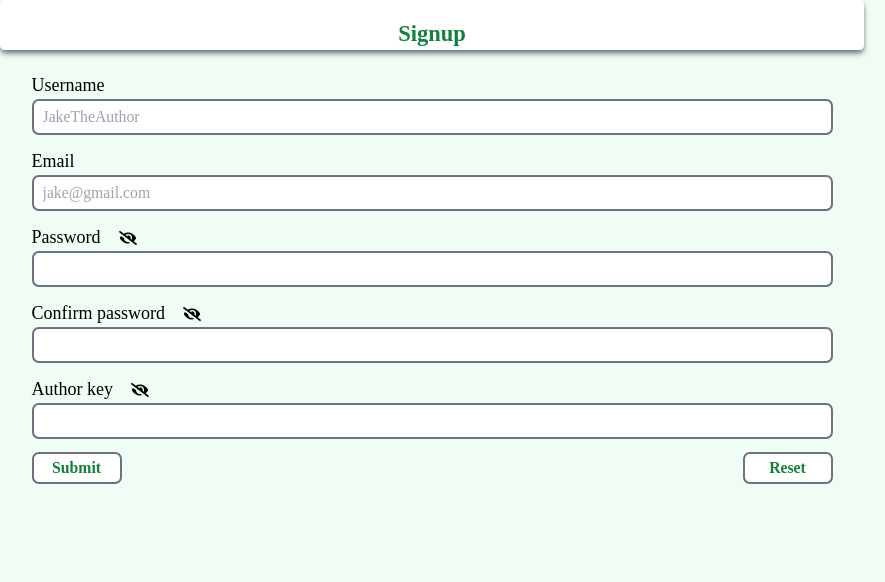
Test: signup form tests › form interactions › inputs are registered correctly
This screenshot has width=885, height=582.
Note: Every field is filled correctly
Type "a" into the field labelled "Username" at {"x": 432, "y": 117}, box [32,99,832,134]
Type "aaa@aaa" into the field labelled "Email" at {"x": 432, "y": 193}, box [32,175,832,210]
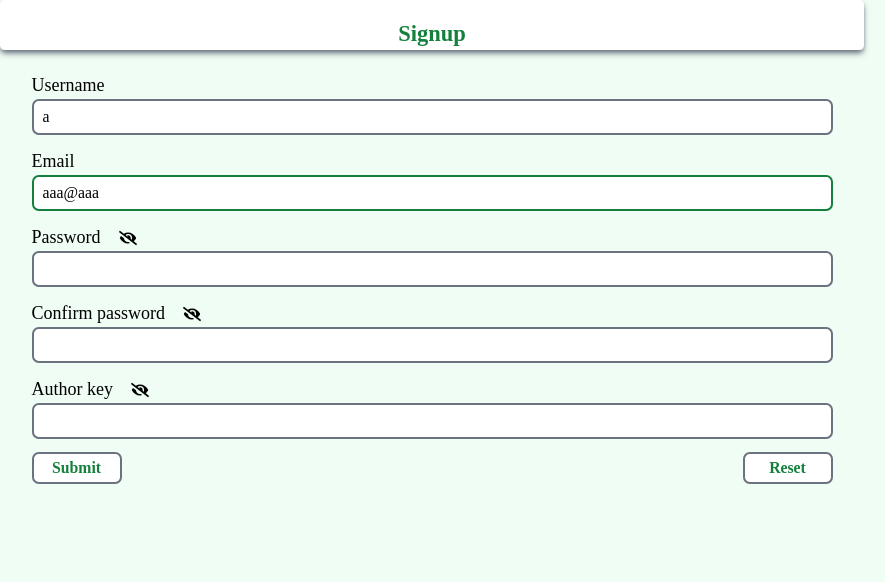
Type "aaaaa" into the password field labelled "Password" at {"x": 432, "y": 269}, box [32,251,832,286]
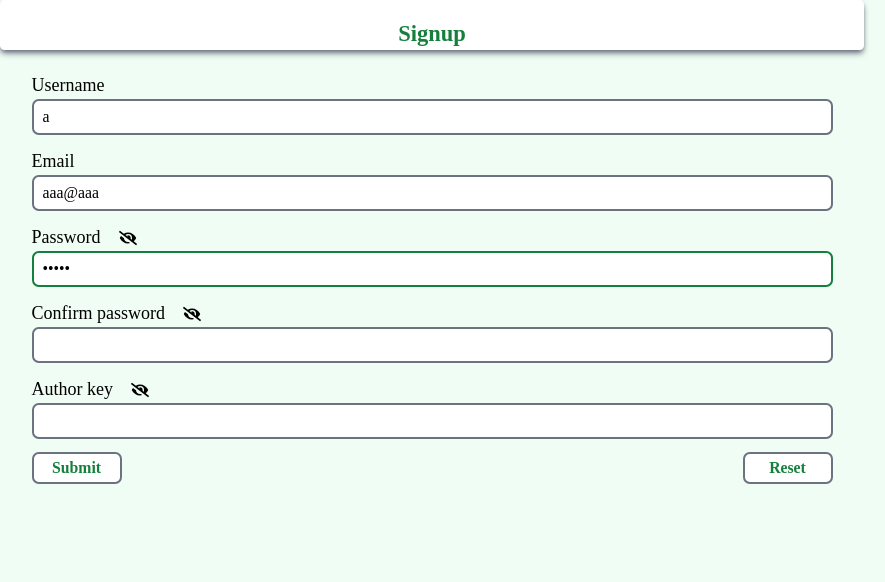
Type "aaaaa" into the password field labelled "Confirm password" at {"x": 432, "y": 345}, box [32,327,832,362]
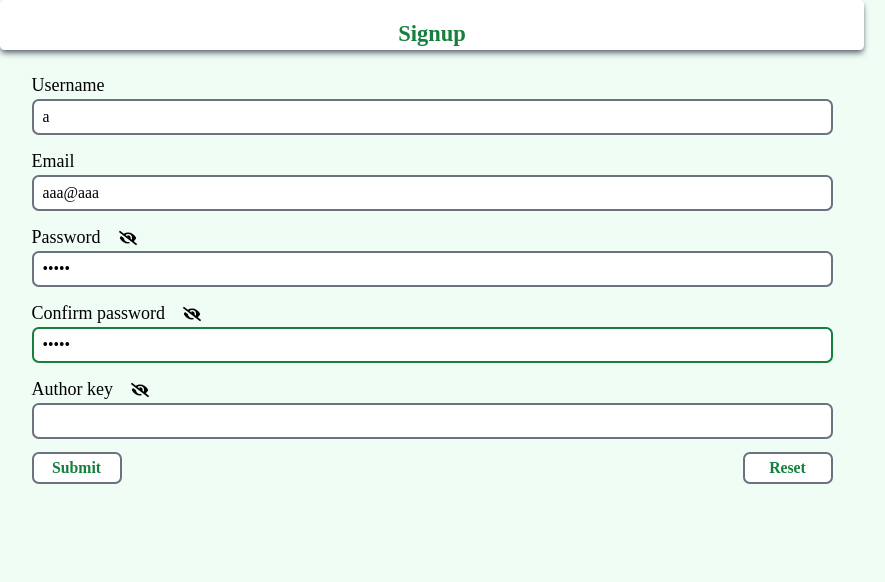
Type "aaaa" into the password field labelled "Author key" at {"x": 432, "y": 421}, box [32,403,832,438]
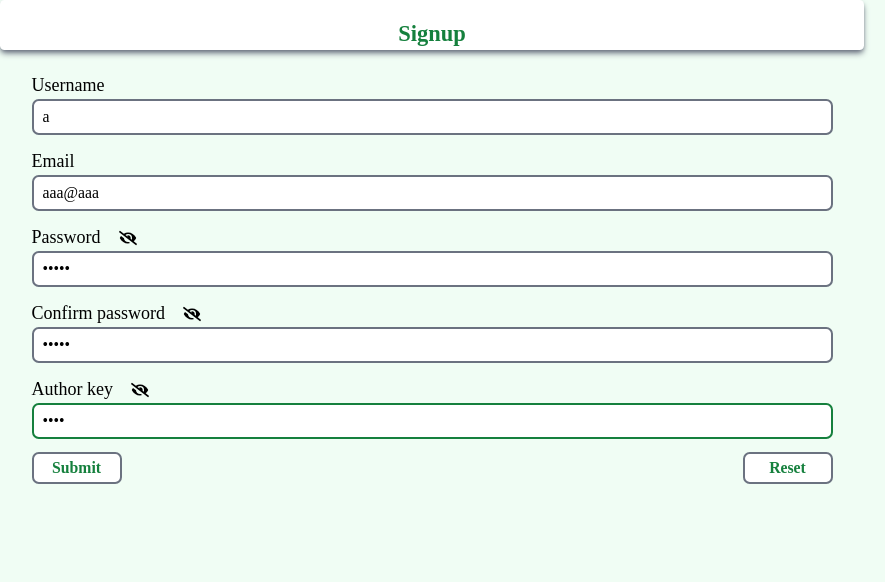
Note: Show error list on submit button press
Click the button "Submit" at {"x": 76, "y": 468}, box [32,452,122,484]
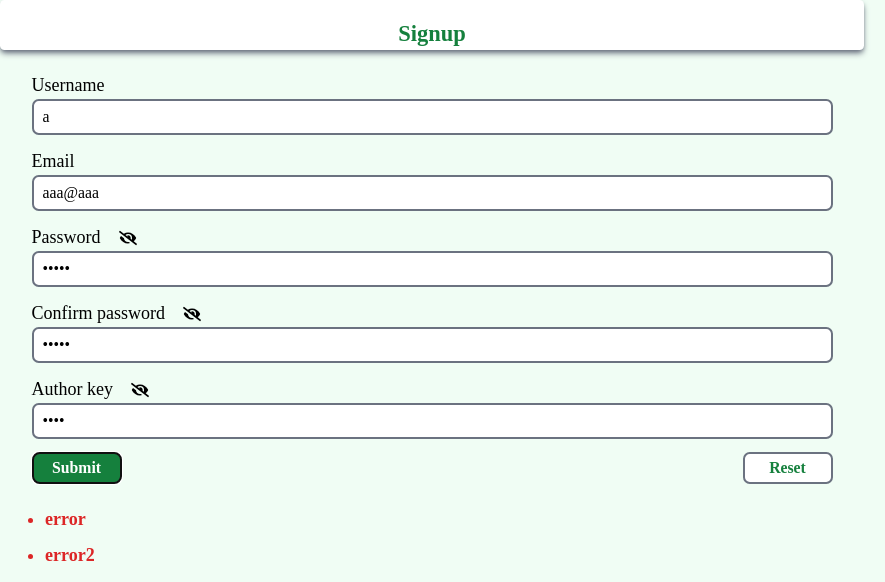
Check: the list named "errorlist" is shown, box [45,509,95,565]
Note: Reset both error list and input fields on reset button press
Click the button "Reset" at {"x": 788, "y": 468}, box [742,452,832,484]
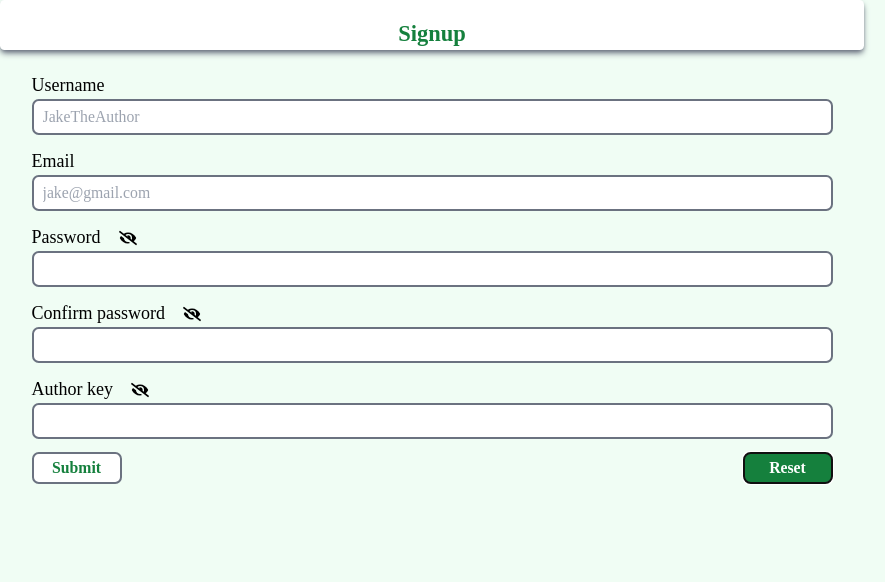
Check: the field labelled "Username" is empty, box [32,99,832,134]
Check: the field labelled "Email" is empty, box [32,175,832,210]
Check: the password field labelled "Password" is empty, box [32,251,832,286]
